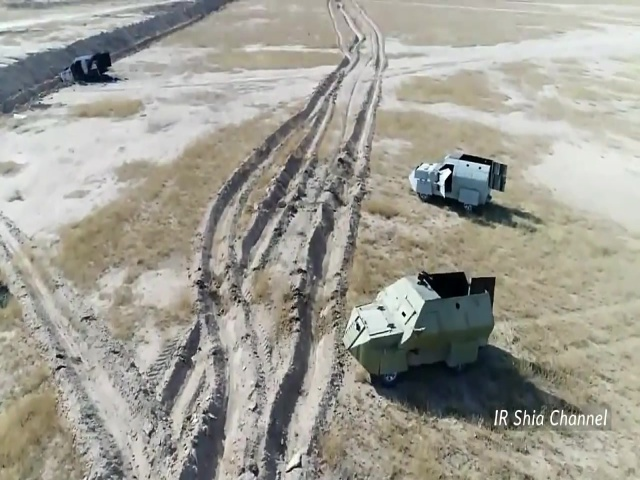vehicle: (343, 270, 496, 381), (410, 152, 507, 217), (59, 53, 113, 85)
